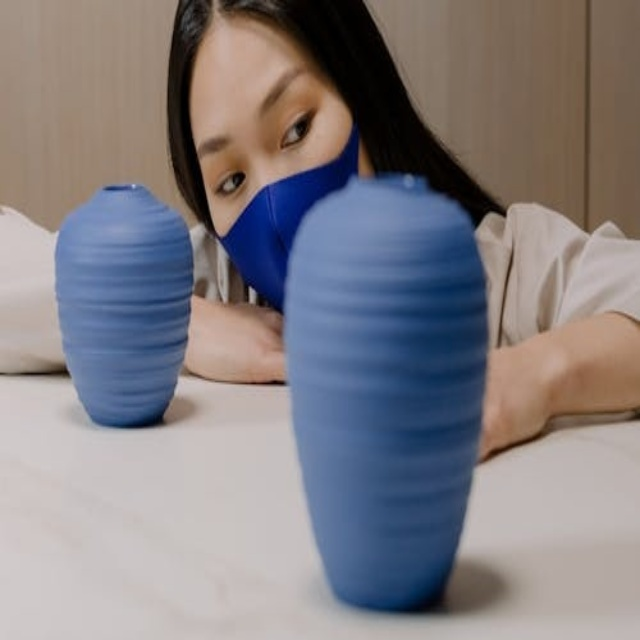Mascara: (214, 123, 360, 316)
Sin_gafas: (198, 69, 321, 198)
